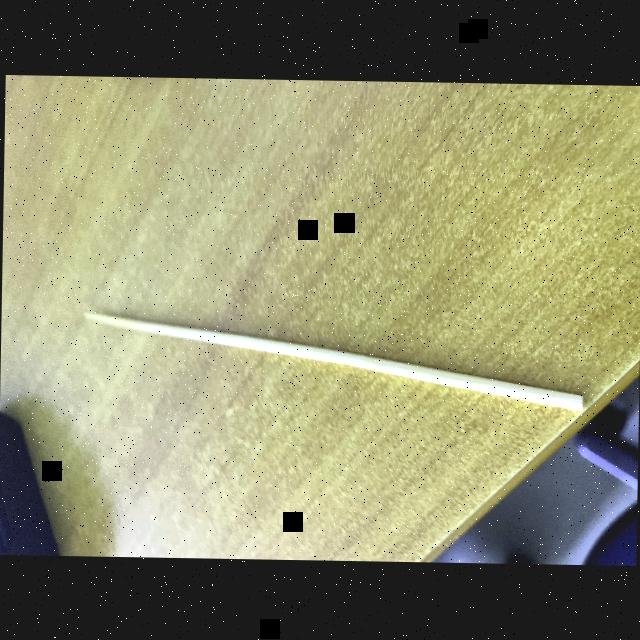stick: (73, 286, 598, 428)
